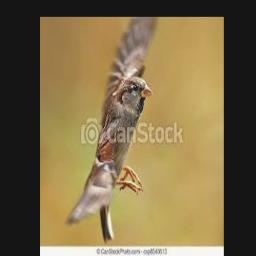Sparrow: (65, 17, 157, 243)
